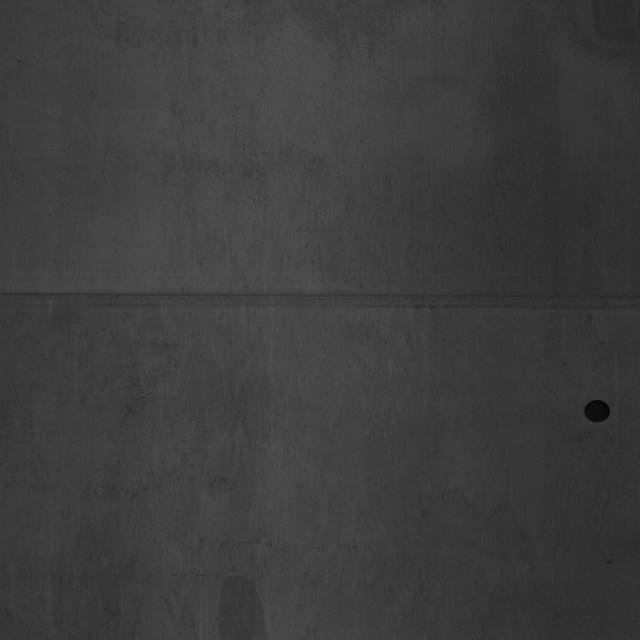crease: (3, 267, 635, 326)
crescent_gap: (581, 396, 615, 434)
inclusion: (61, 357, 278, 629)
